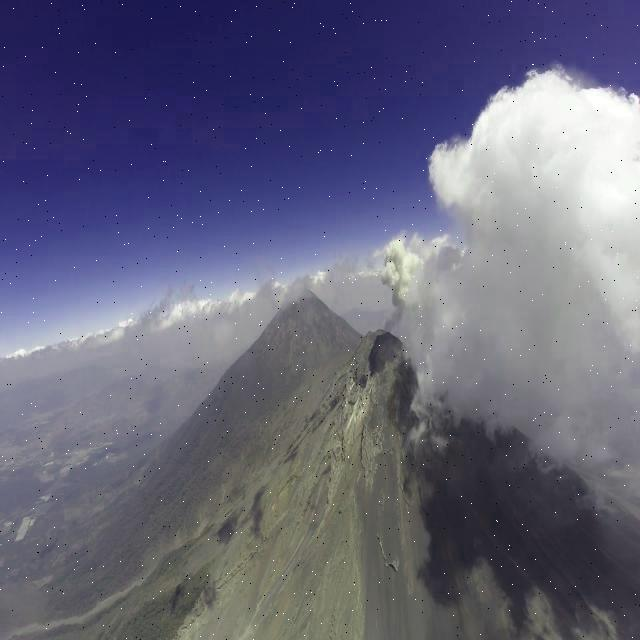Plume: (378, 235, 426, 322)
Summit: (306, 326, 416, 428)
